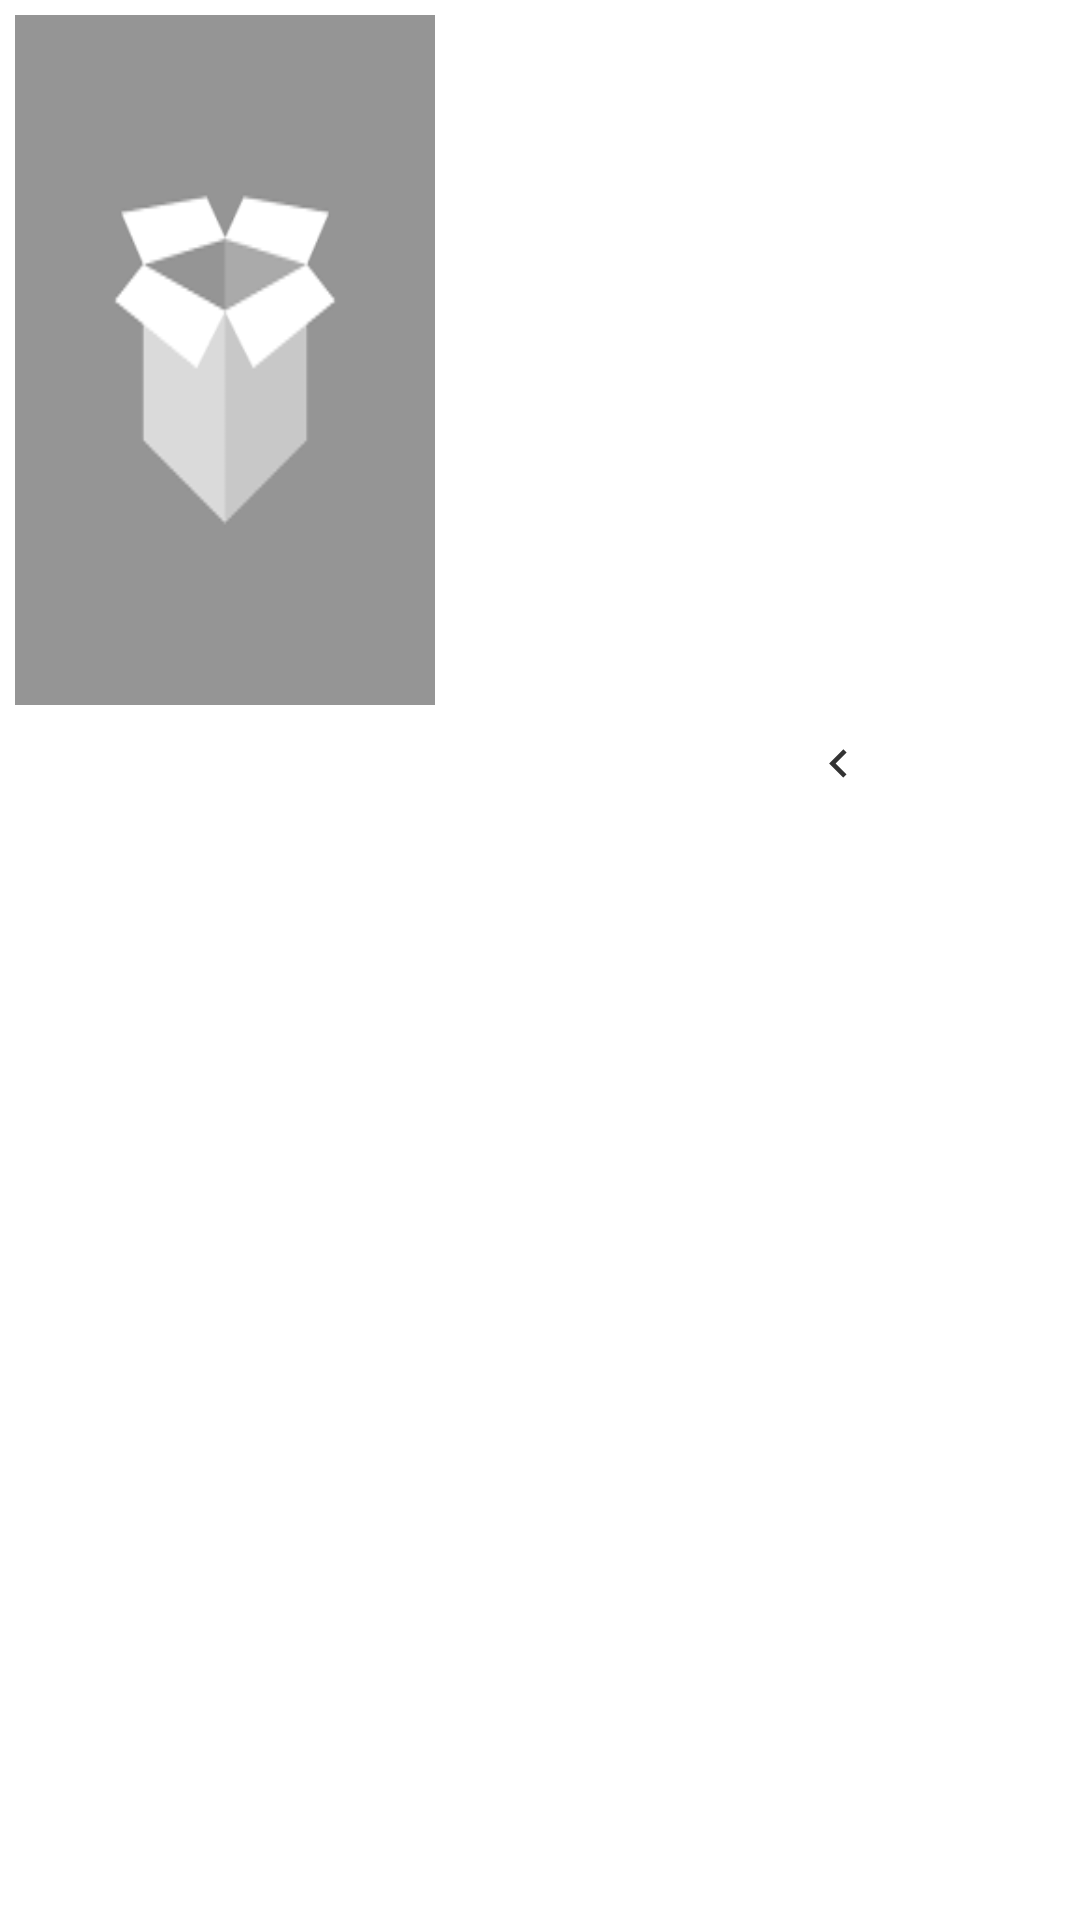

Named icons in this screenshot (1080px×1920px) and their centers, (x=x, y=y):
left: (x=838, y=763)
